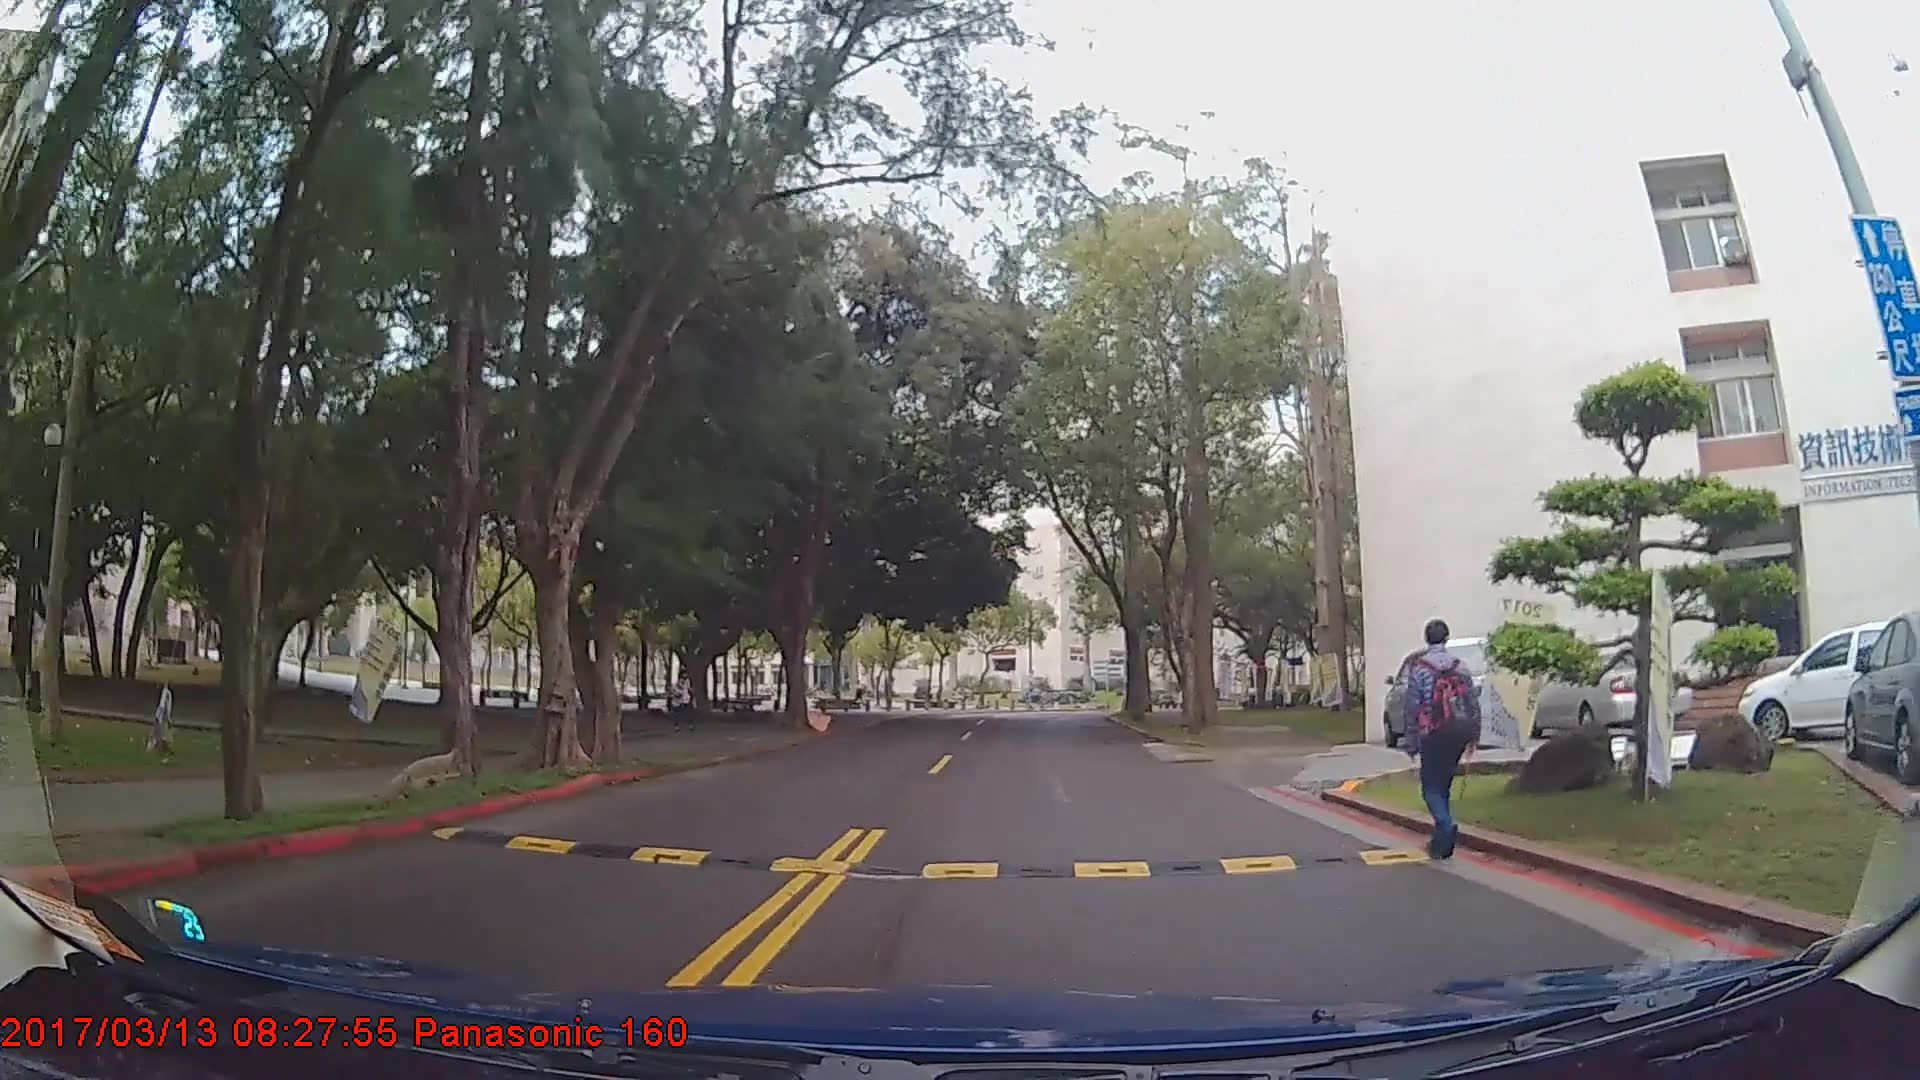pedestrian: (1403, 614, 1482, 865), (670, 668, 699, 732)
vehicle: (1733, 619, 1908, 742)
